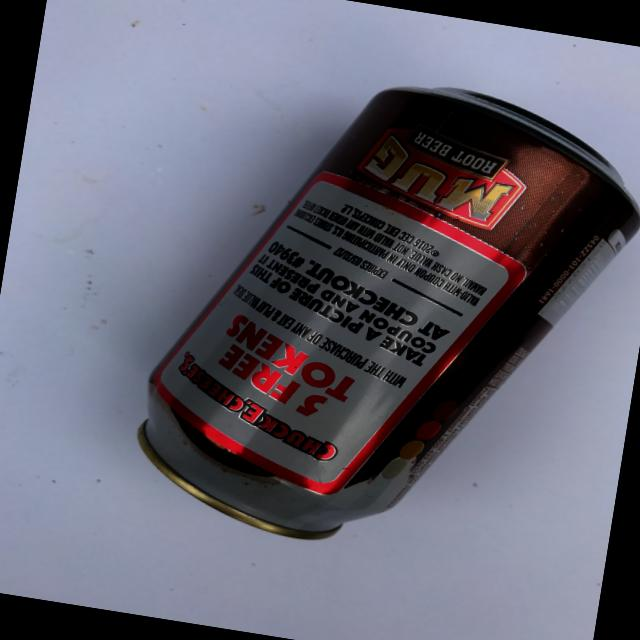Metal: (106, 28, 640, 609)
